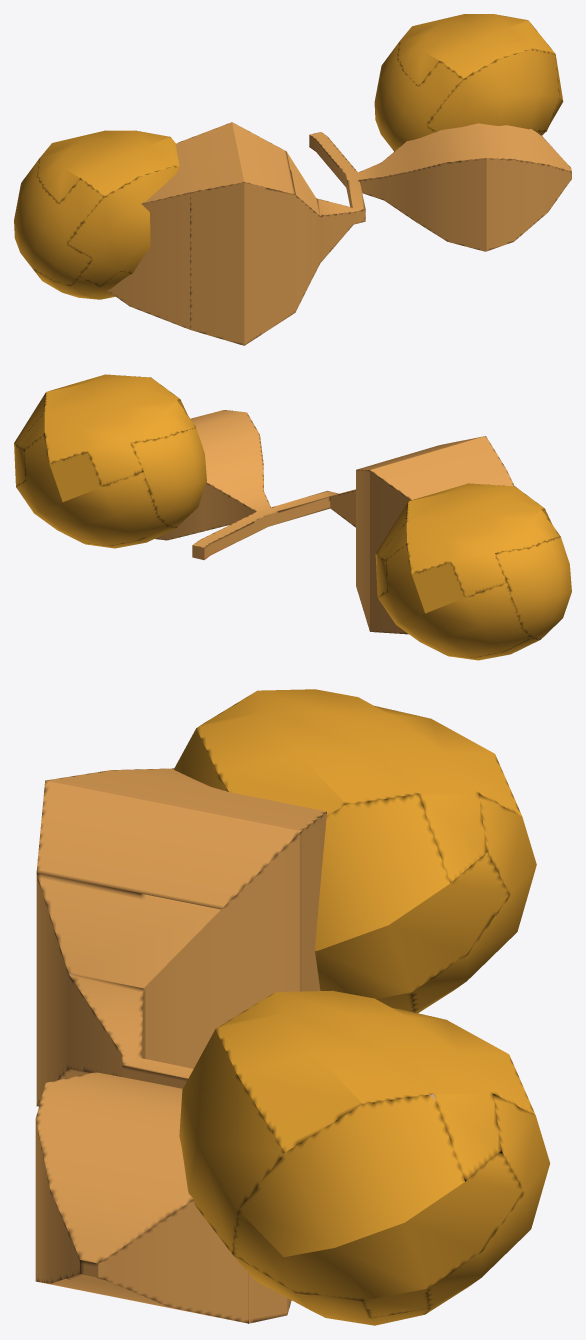
File: Random.fbx
3 views of the same model, one above another, from view 1: azimuth 30°, elevation 25°; view 2: azimuth 150°, elevation 25°; view 3: azimuth 270°, elevation 25° (orthographic). The views are drawn at different scales.
Visible parts, largest first — view 1: Circle.005_Baked.014; view 2: Circle.005_Baked.014; view 3: Circle.005_Baked.014.
Boxes of the visible parts, x1,y1,x2,y2 form: Circle.005_Baked.014: [14, 14, 571, 345]; Circle.005_Baked.014: [14, 374, 571, 660]; Circle.005_Baked.014: [35, 689, 550, 1325].
Bounding box in the file's own units: 123 × 40.9 × 51.54.
1 material, 1 textured.
